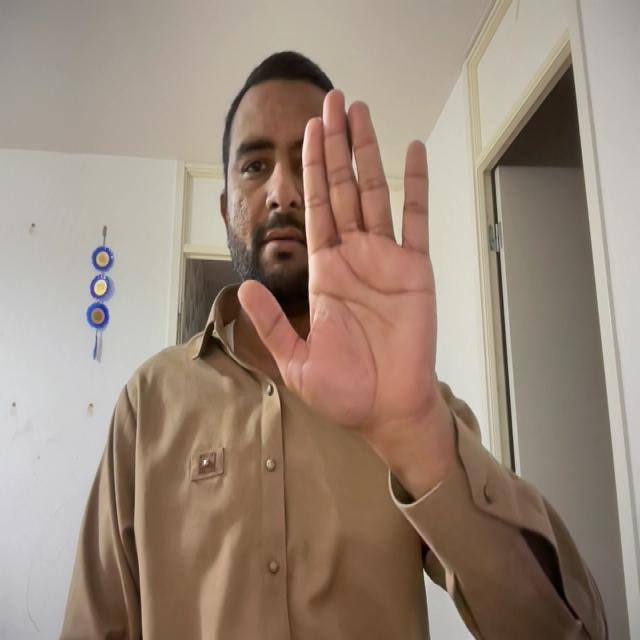Hello: (231, 83, 463, 439)
